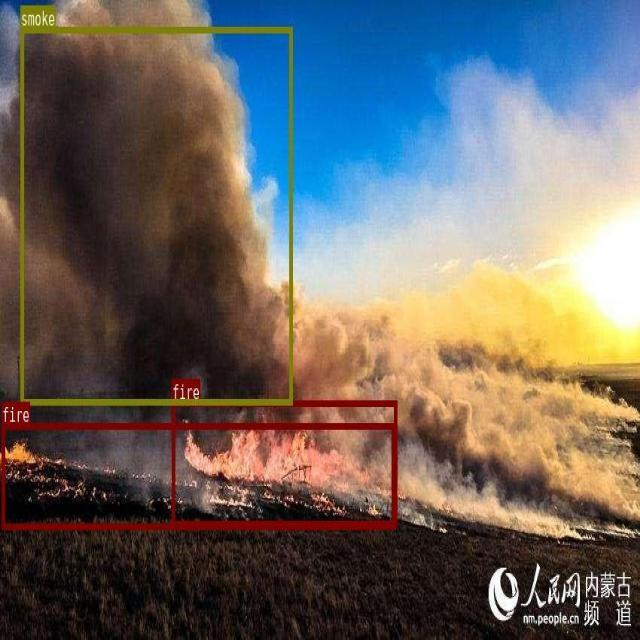fire: (2, 423, 395, 528), (171, 400, 397, 526)
smoke: (20, 26, 292, 404)
